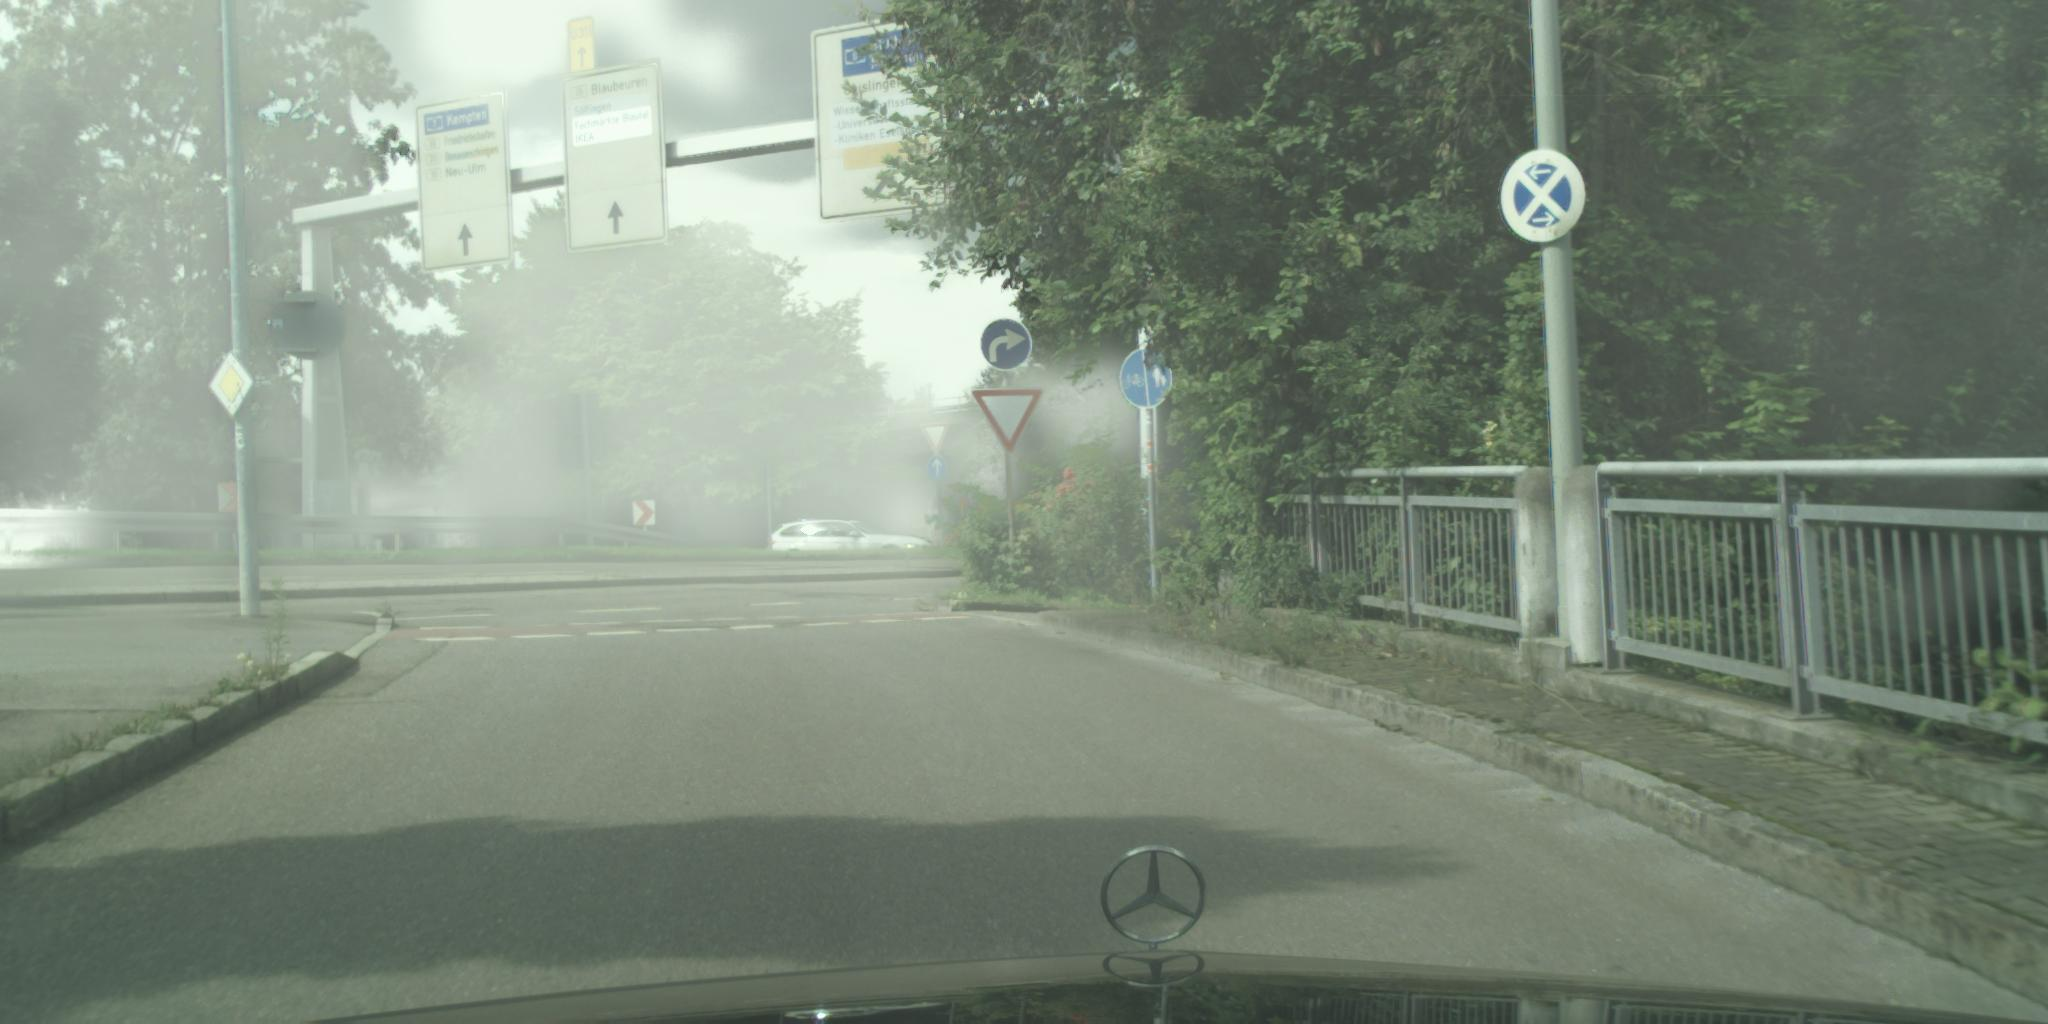car: (769, 520, 936, 555)
